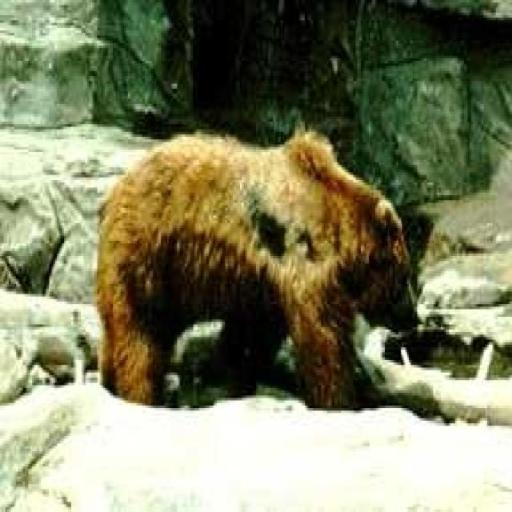Bear: (92, 124, 411, 408)
